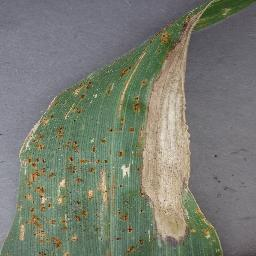Gray_Leaf_Spot: (16, 121, 229, 256), (39, 50, 191, 122), (130, 21, 225, 49), (175, 0, 256, 19)
